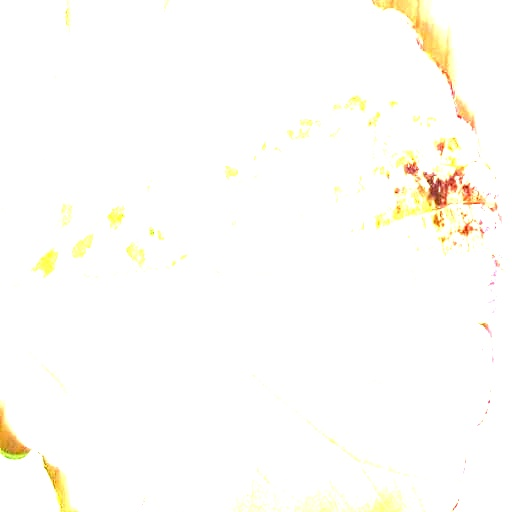Angular Leafspot: (6, 0, 508, 386)
